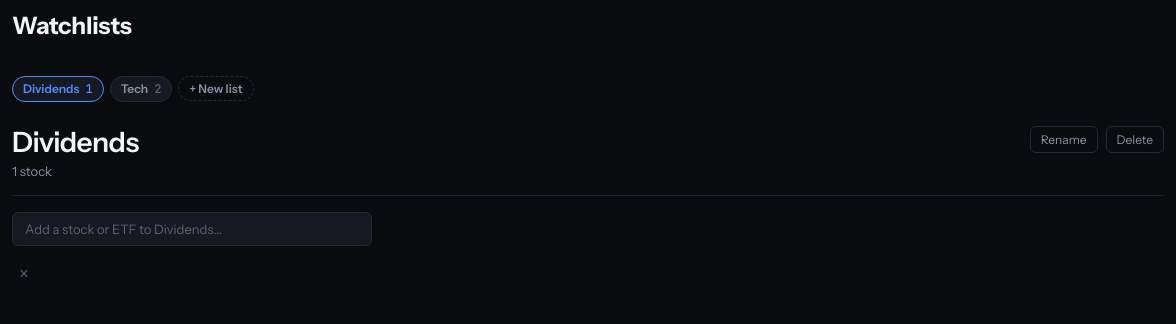
Test: WatchlistsView › shows why a list couldn't be created
The width and height of the screenshot is (1176, 324).
Click the button with class "new-chip". click: (216, 89)
box: [178,76,254,101]
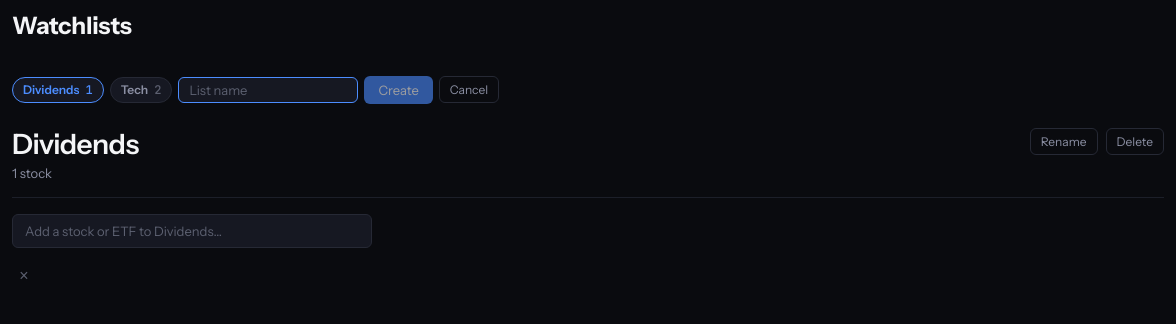
Type "tech" into the field with placeholder "List name". click: (268, 90)
box: [178,77,358,103]
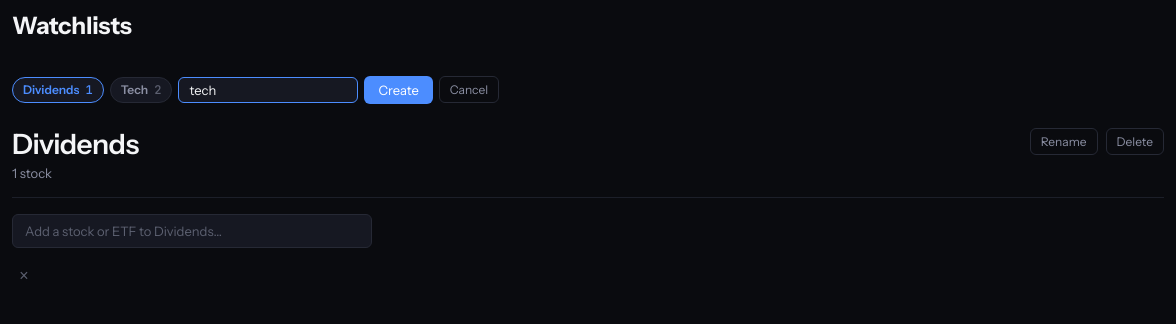
Submit the form with class "chip-create", box [178,76,499,104]
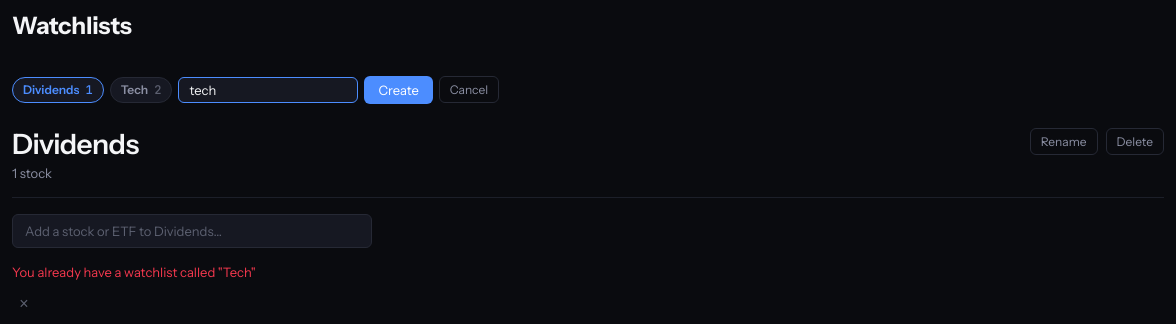
Now the form with class "chip-create" is shown, box [178,76,499,104]
Now the text with class "inline-error" reads "You already have a watchlist called \"Tech\"", box [12,264,256,280]
